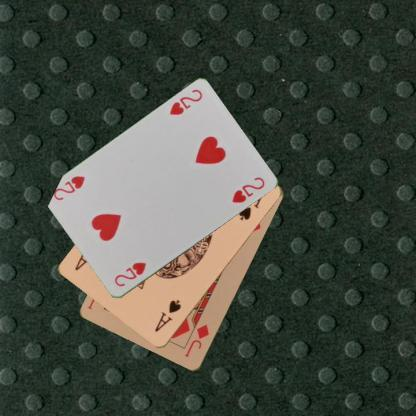2h: (167, 87, 204, 117), (112, 260, 148, 288)
As: (152, 297, 183, 334)
Jd: (182, 322, 210, 359)
